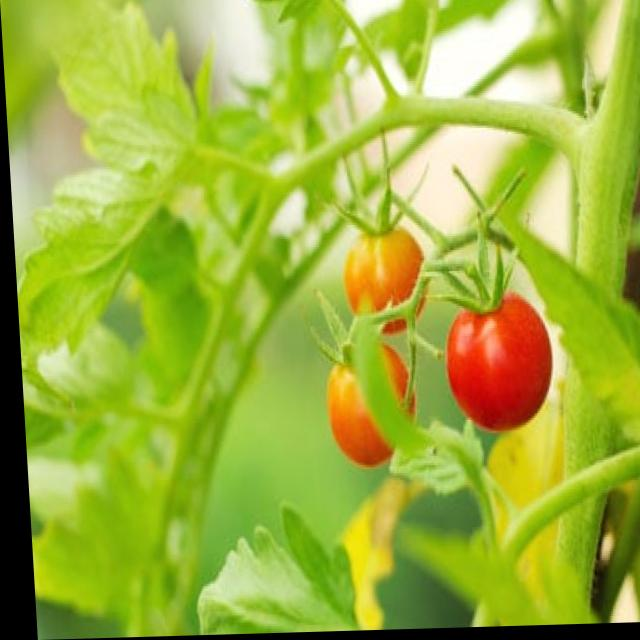kirmizi: (432, 285, 569, 454)
